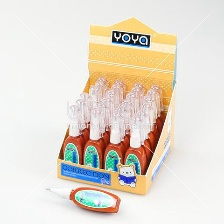book: (54, 14, 180, 199)
correction_fluid: (41, 184, 122, 217), (88, 93, 115, 179), (81, 102, 108, 186), (106, 97, 134, 174), (122, 110, 149, 187), (101, 108, 127, 187), (125, 102, 152, 175), (142, 81, 169, 153), (69, 94, 94, 169), (61, 103, 86, 177), (133, 93, 156, 167), (141, 87, 163, 159)
